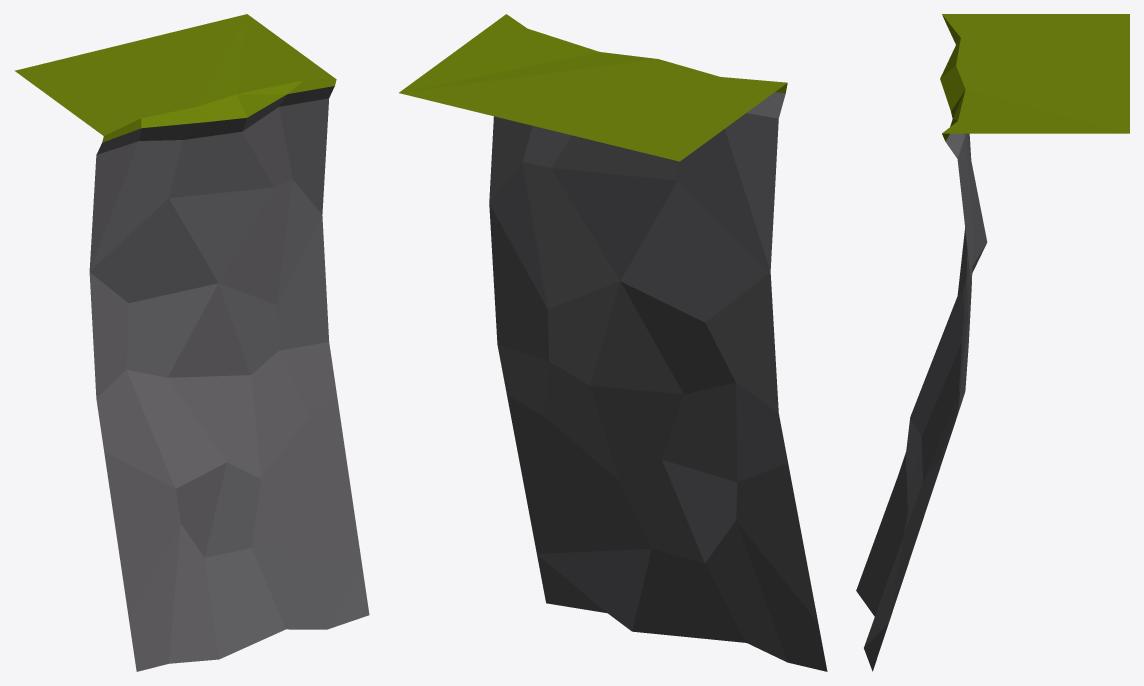
File: mesh_cliff_4x1m_02.fbx
3 renders of one model, left to right at view 1: azimuth 30°, elevation 25°; view 2: azimuth 150°, elevation 25°; view 3: azimuth 270°, elevation 25°, orthographic. The views are drawn at different scales.
Visible parts, largest first — view 1: mesh_cliff_4x1m_02; view 2: mesh_cliff_4x1m_02; view 3: mesh_cliff_4x1m_02.
Boxes of the visible parts, x1,y1,x2,y2 form: mesh_cliff_4x1m_02: (14, 14, 369, 671); mesh_cliff_4x1m_02: (399, 14, 827, 671); mesh_cliff_4x1m_02: (856, 14, 1129, 671).
Size of the model in its own units: 200 by 420 by 194.
